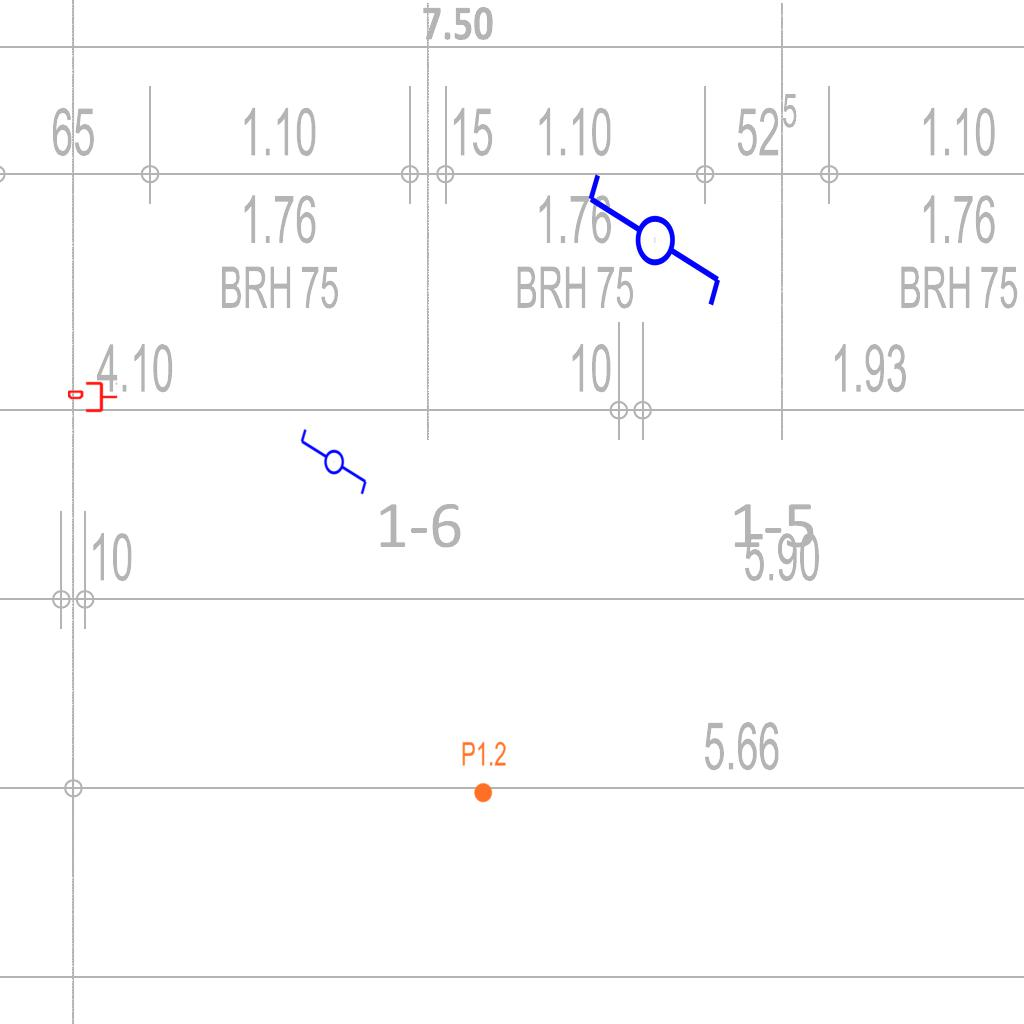Datenanschluss_einfach: (68, 380, 118, 414)
Downlight_LED_Einbauleuchten_Flur: (461, 740, 507, 804)
Wechselschalter: (581, 170, 725, 327), (297, 427, 369, 505)
